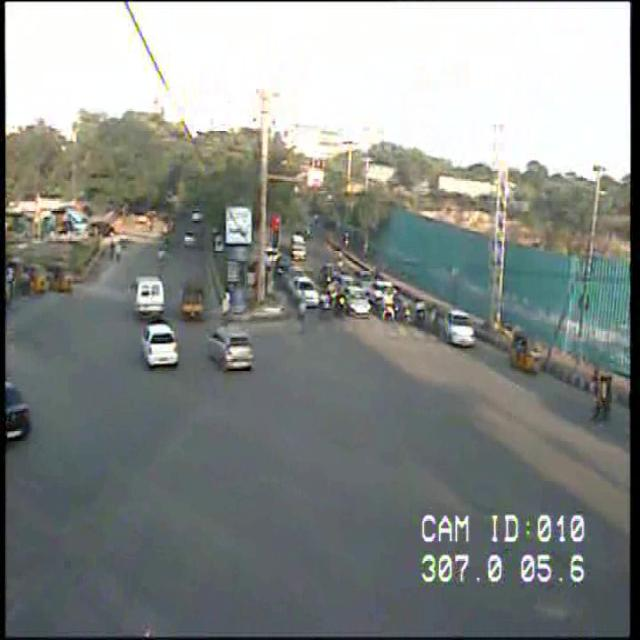noaccident: (145, 197, 526, 468)
